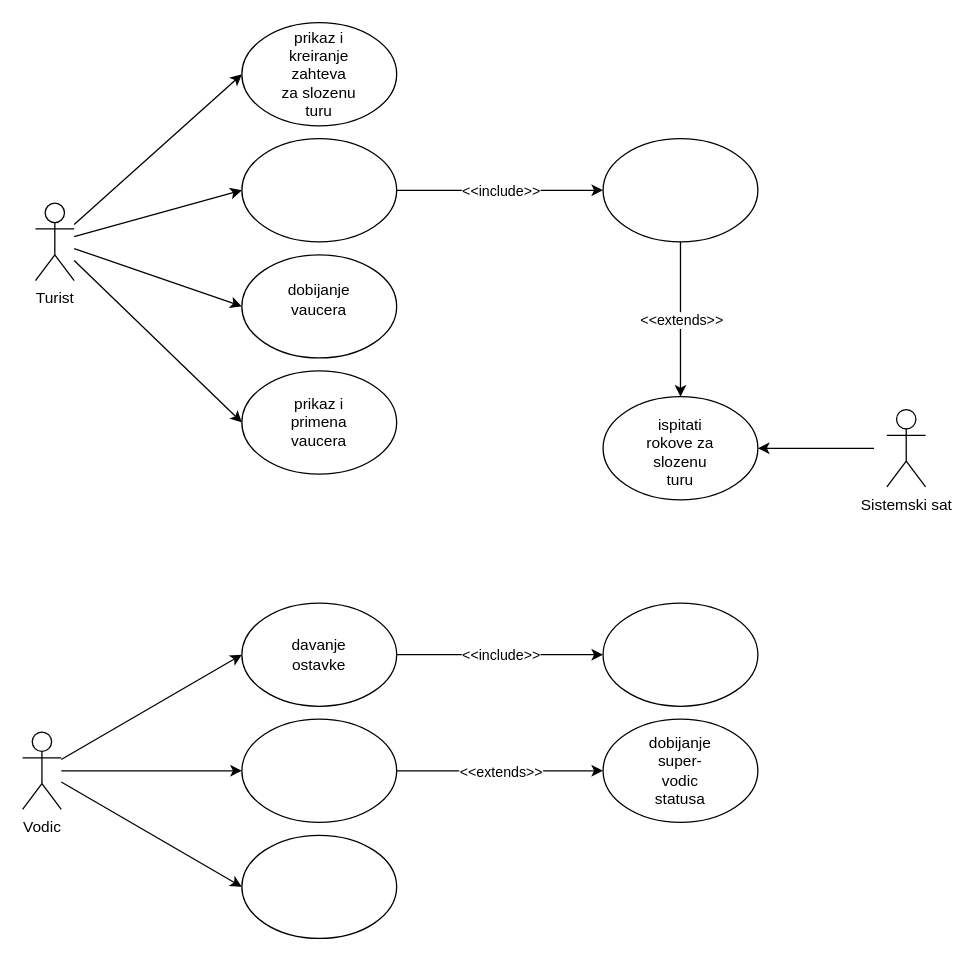
Some shapes in this 974 by 961 pixel diagram are drawn without their labels. Each missing label, with the box of its shape:
azuriranje ture i vaucera: (602, 602, 758, 706)
organizovanje ture: (241, 718, 397, 822)
prihvatanje dela ture u zahtevu za slozenu turu: (241, 834, 397, 938)
prikaz i kreiranje zahteva za obicu turu: (602, 137, 758, 242)
Uvid u statuse delova slozene ture: (241, 137, 397, 242)
